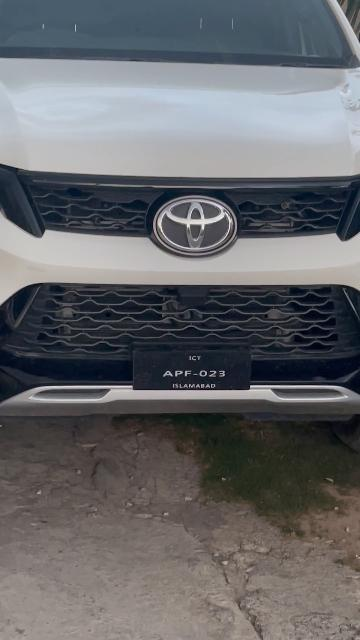plate: (133, 341, 247, 387)
